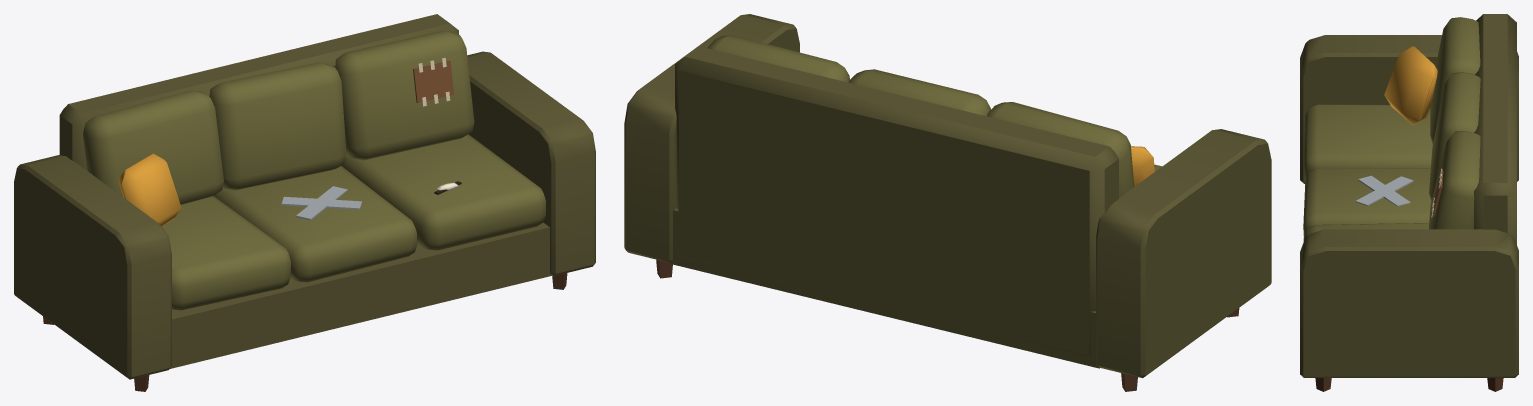
File: Shop_Couch.fbx
The picture shows the model from 3 angles, left to right: view 1: azimuth 30°, elevation 25°; view 2: azimuth 150°, elevation 25°; view 3: azimuth 270°, elevation 25°; orthographic projection. The views are drawn at different scales.
Parts seen in each view (by area): view 1: Cushions, Frame, Pillow, Patch, DuctTape; view 2: Frame, Cushions, Pillow, Legs; view 3: Frame, Cushions, Pillow, DuctTape, Legs.
Boxes of the visible parts, bbox=[...] form: Cushions: bbox=[83, 30, 545, 310]; Frame: bbox=[14, 14, 595, 379]; Pillow: bbox=[118, 153, 181, 226]; Patch: bbox=[413, 60, 454, 102]; DuctTape: bbox=[281, 186, 362, 220]; Frame: bbox=[624, 14, 1271, 378]; Cushions: bbox=[707, 35, 1161, 197]; Pillow: bbox=[1131, 146, 1154, 186]; Legs: bbox=[656, 259, 1239, 391]; Frame: bbox=[1300, 14, 1518, 377]; Cushions: bbox=[1303, 17, 1480, 241]; Pillow: bbox=[1384, 46, 1437, 125]; DuctTape: bbox=[1355, 175, 1413, 206]; Legs: bbox=[1315, 378, 1503, 391].
Size of the model in its own units: 650 by 280 by 280.
